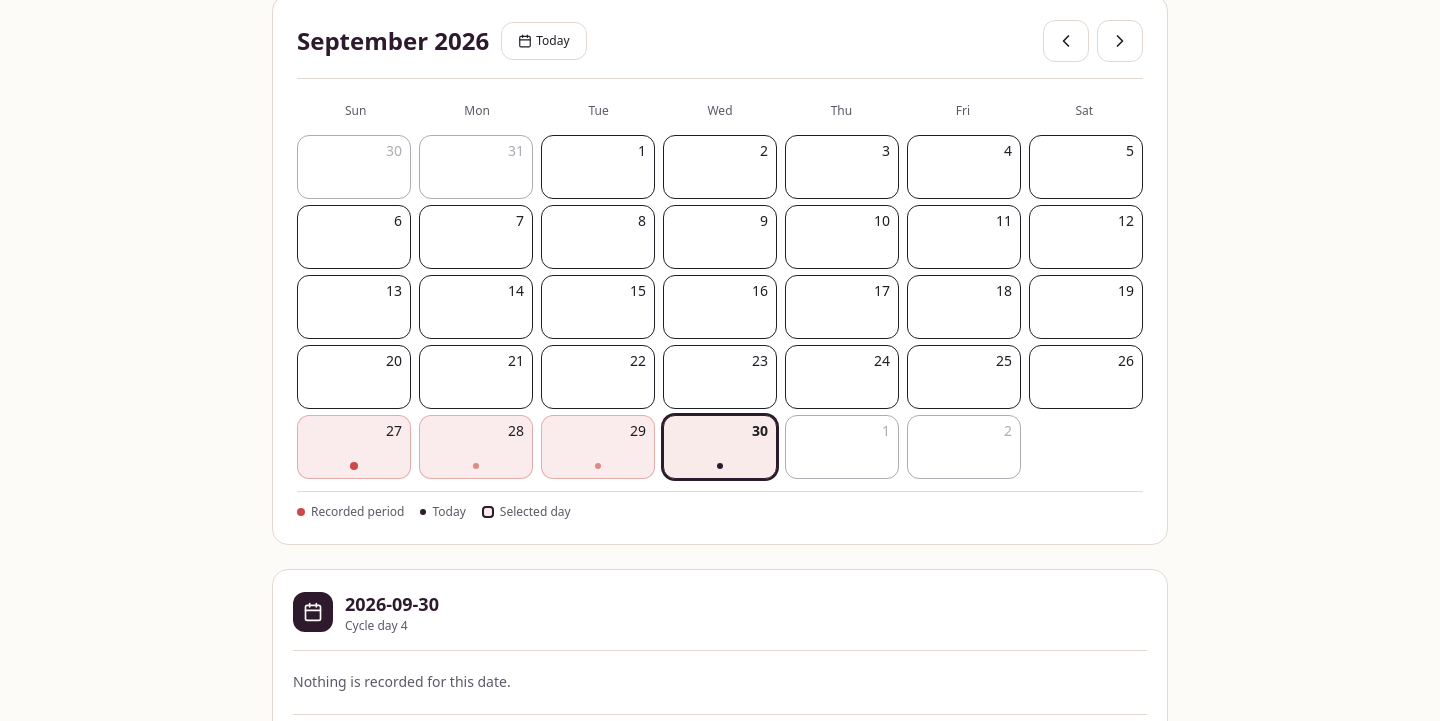
Test: CalendarView UI › offers the period modal for a day, labelled by what is already recorded
Click the cell "27": {"x": 354, "y": 447} [297,415,411,479]
(page scrolled)
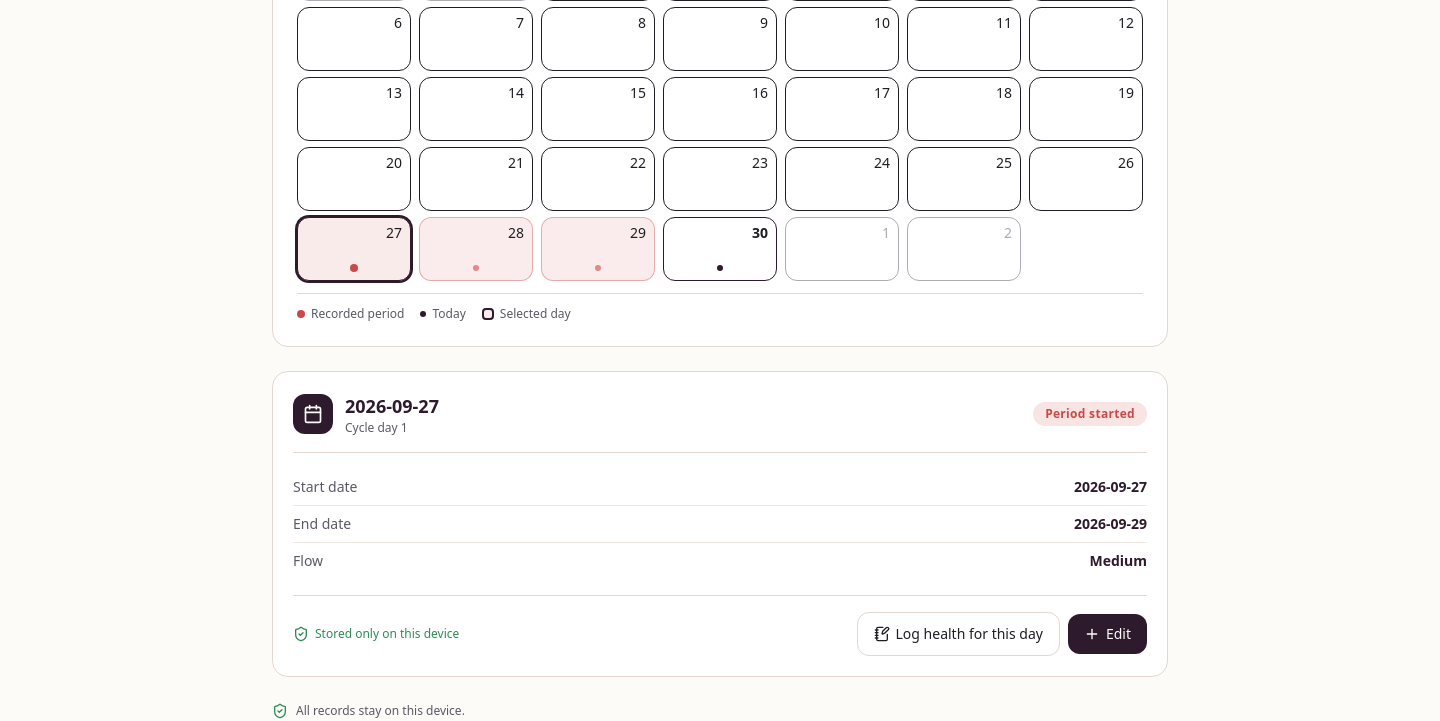
Result: the text "Period started" is shown at [1033,402,1147,426]
Result: the text "Medium" is shown at [1089,551,1147,571]
Result: the text "End date" is shown at [293,514,351,534]
Note: The recorded start day is edited, not created again.
Click the button "Edit": {"x": 1107, "y": 634} [1068,614,1147,654]
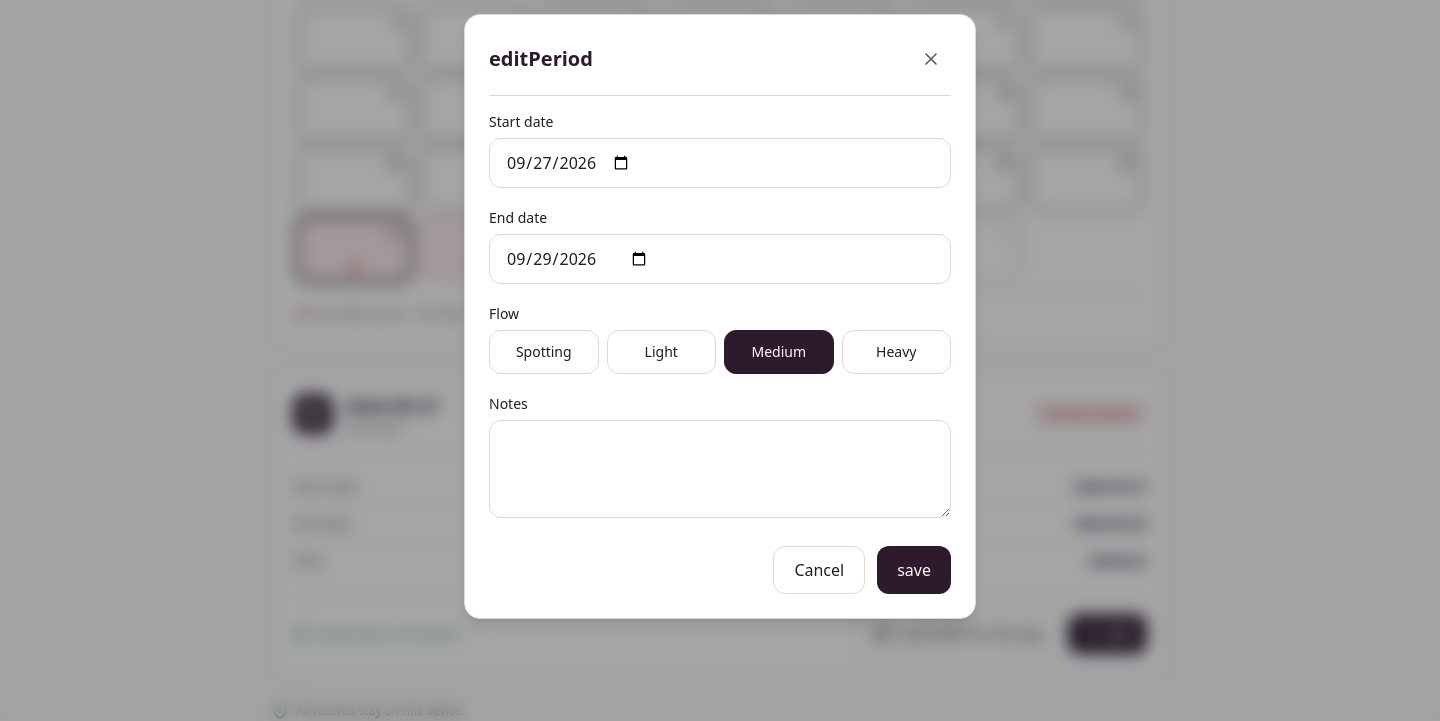
Result: the text "Start date" is shown at [489,112,554,130]
